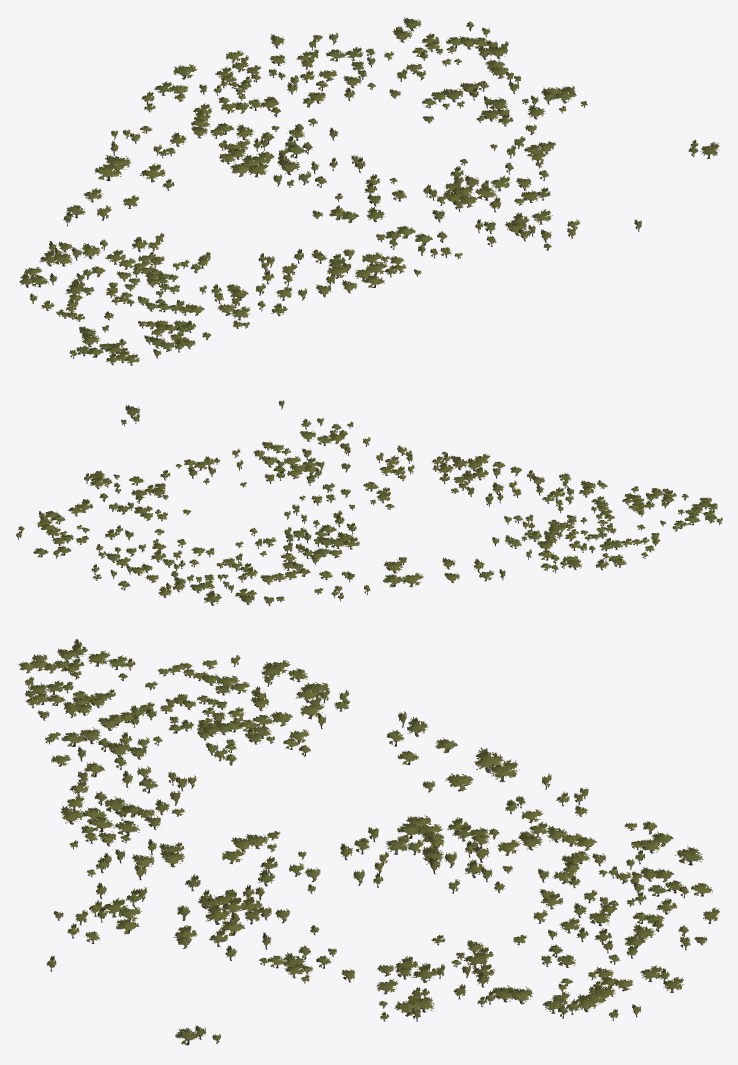
3 views of the same model, one above another, from view 1: azimuth 30°, elevation 25°; view 2: azimuth 150°, elevation 25°; view 3: azimuth 270°, elevation 25° (orthographic). The views are drawn at different scales.
Parts seen in each view (by area): view 1: island_tree_01 0 2 crown, island_tree_01 2 0 crown, island_tree_01 1 2 crown, island_tree_01 0 1 crown, island_tree_01 2 1 crown, island_tree_01 2 2 crown, island_tree_01 1 0 crown, island_tree_01 1 1 crown, island_tree_01 3 0 crown, island_tree_01 3 1 crown; view 2: island_tree_01 0 2 crown, island_tree_01 2 0 crown, island_tree_01 1 2 crown, island_tree_01 0 1 crown, island_tree_01 2 1 crown, island_tree_01 1 0 crown, island_tree_01 2 2 crown, island_tree_01 1 1 crown, island_tree_01 3 0 crown, island_tree_01 3 1 crown; view 3: island_tree_01 0 2 crown, island_tree_01 2 0 crown, island_tree_01 1 2 crown, island_tree_01 0 1 crown, island_tree_01 2 1 crown, island_tree_01 2 2 crown, island_tree_01 1 0 crown, island_tree_01 1 1 crown, island_tree_01 3 0 crown, island_tree_01 3 1 crown.
Boxes of the visible parts, left/top/right/bottom form: island_tree_01 0 2 crown: left=41, top=268, right=250, bottom=364; island_tree_01 2 0 crown: left=173, top=32, right=445, bottom=143; island_tree_01 1 2 crown: left=190, top=230, right=421, bottom=314; island_tree_01 0 1 crown: left=19, top=188, right=189, bottom=301; island_tree_01 2 1 crown: left=285, top=103, right=548, bottom=220; island_tree_01 2 2 crown: left=395, top=177, right=579, bottom=258; island_tree_01 1 0 crown: left=94, top=81, right=254, bottom=179; island_tree_01 1 1 crown: left=123, top=138, right=358, bottom=260; island_tree_01 3 0 crown: left=392, top=17, right=520, bottom=92; island_tree_01 3 1 crown: left=442, top=81, right=587, bottom=161; island_tree_01 0 2 crown: left=548, top=480, right=722, bottom=551; island_tree_01 2 0 crown: left=91, top=512, right=292, bottom=603; island_tree_01 1 2 crown: left=393, top=451, right=571, bottom=522; island_tree_01 0 1 crown: left=444, top=521, right=647, bottom=581; island_tree_01 2 1 crown: left=155, top=449, right=378, bottom=546; island_tree_01 1 0 crown: left=235, top=547, right=423, bottom=604; island_tree_01 2 2 crown: left=253, top=417, right=412, bottom=474; island_tree_01 1 1 crown: left=295, top=487, right=511, bottom=572; island_tree_01 3 0 crown: left=16, top=499, right=129, bottom=557; island_tree_01 3 1 crown: left=84, top=456, right=215, bottom=516; island_tree_01 0 2 crown: left=18, top=639, right=232, bottom=750; island_tree_01 2 0 crown: left=467, top=845, right=719, bottom=963; island_tree_01 1 2 crown: left=51, top=741, right=228, bottom=854; island_tree_01 0 1 crown: left=216, top=655, right=457, bottom=753; island_tree_01 2 1 crown: left=216, top=846, right=483, bottom=964; island_tree_01 2 2 crown: left=53, top=849, right=229, bottom=948; island_tree_01 1 0 crown: left=470, top=747, right=673, bottom=853; island_tree_01 1 1 crown: left=225, top=745, right=476, bottom=858; island_tree_01 3 0 crown: left=471, top=953, right=684, bottom=1017; island_tree_01 3 1 crown: left=268, top=950, right=488, bottom=1019.
Bounding box in the file's own units: 610 × 14.1 × 454.
2 materials, 2 textured.
